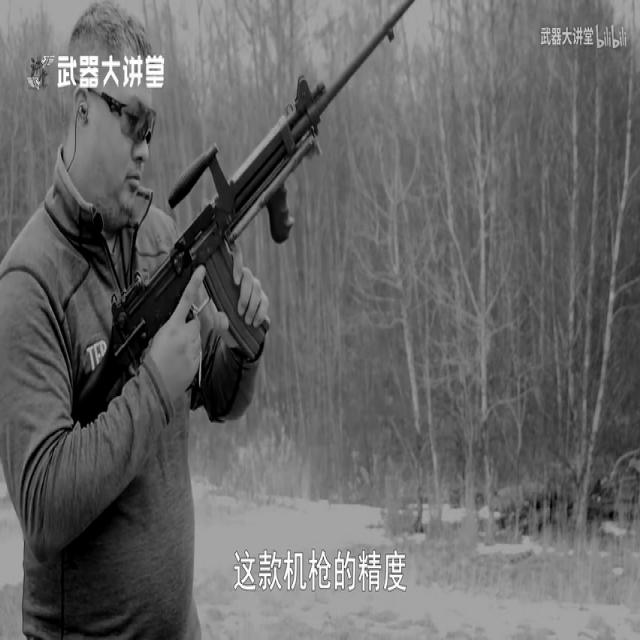Rifle: (100, 0, 408, 436)
